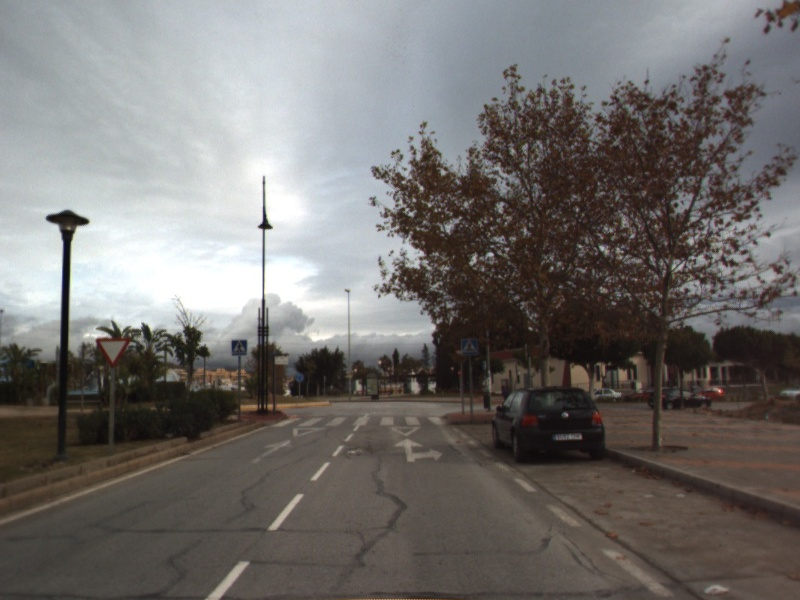STRAIGHT: (249, 438, 294, 465)
STRAIGHT_RIGHT: (391, 436, 445, 464)
